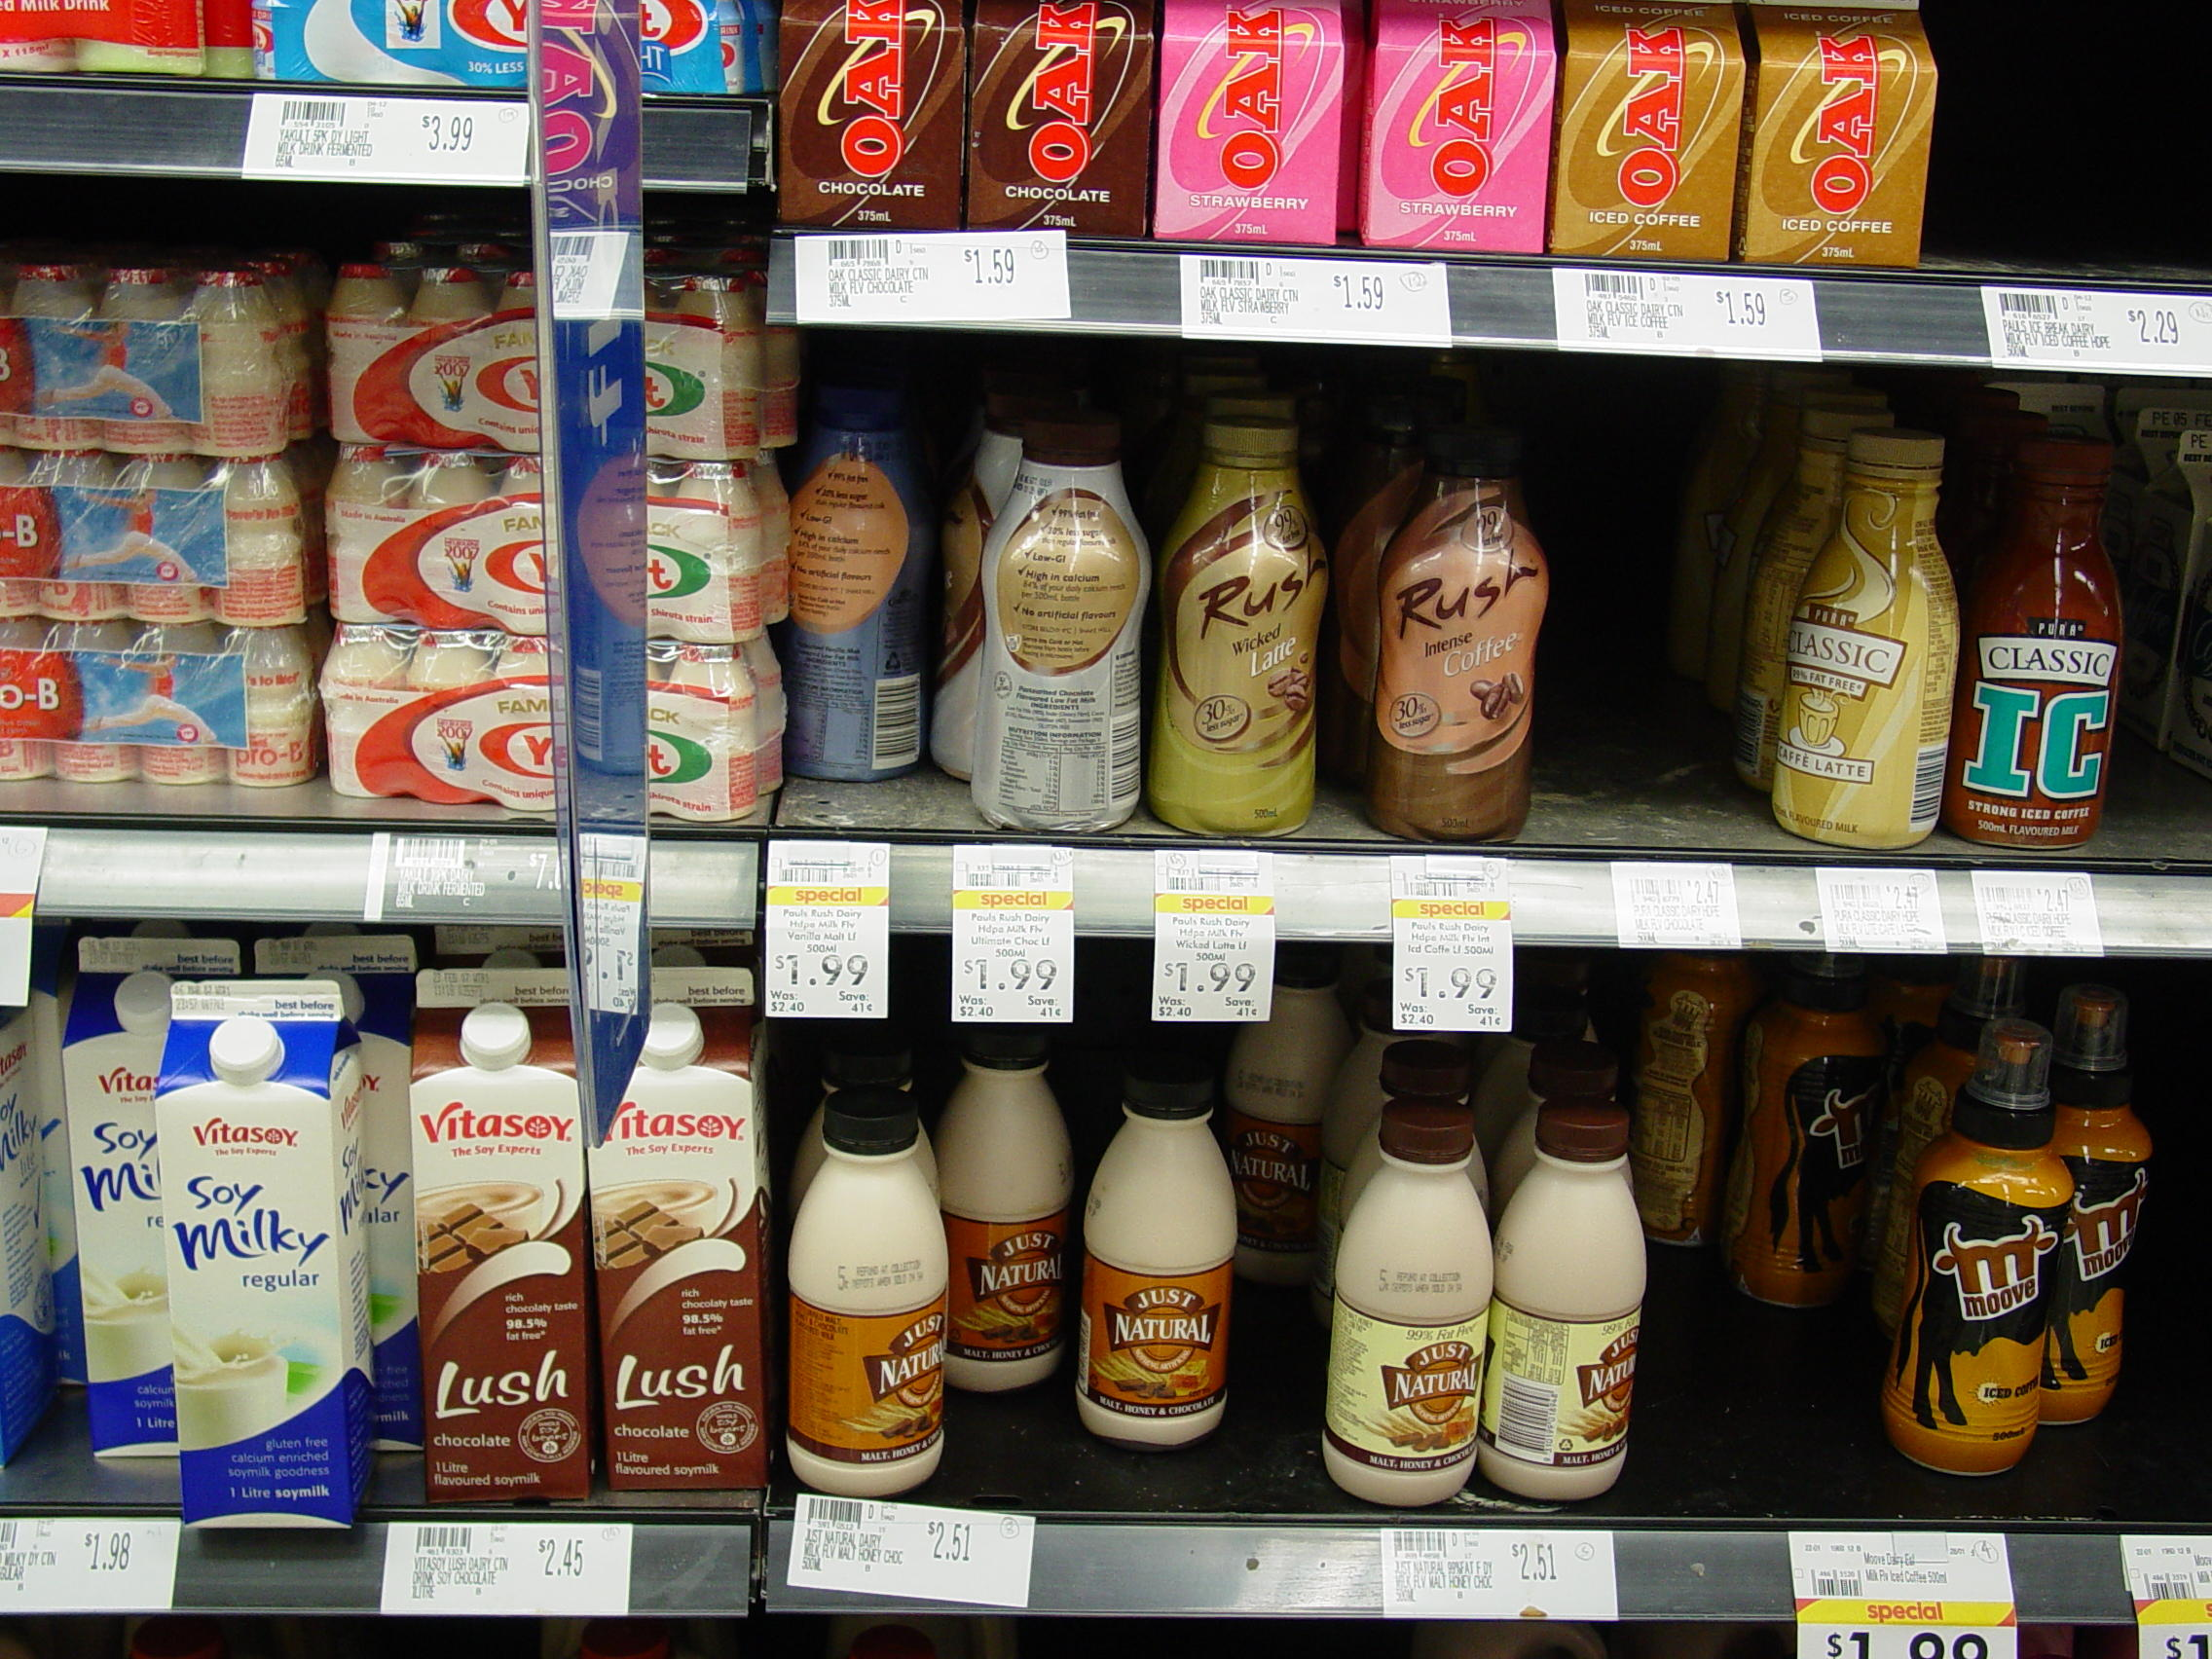Misplacement: (770, 955, 1317, 1546), (786, 342, 1162, 826), (1336, 382, 1541, 843)
Out-of-stock: (1578, 389, 1756, 863)
